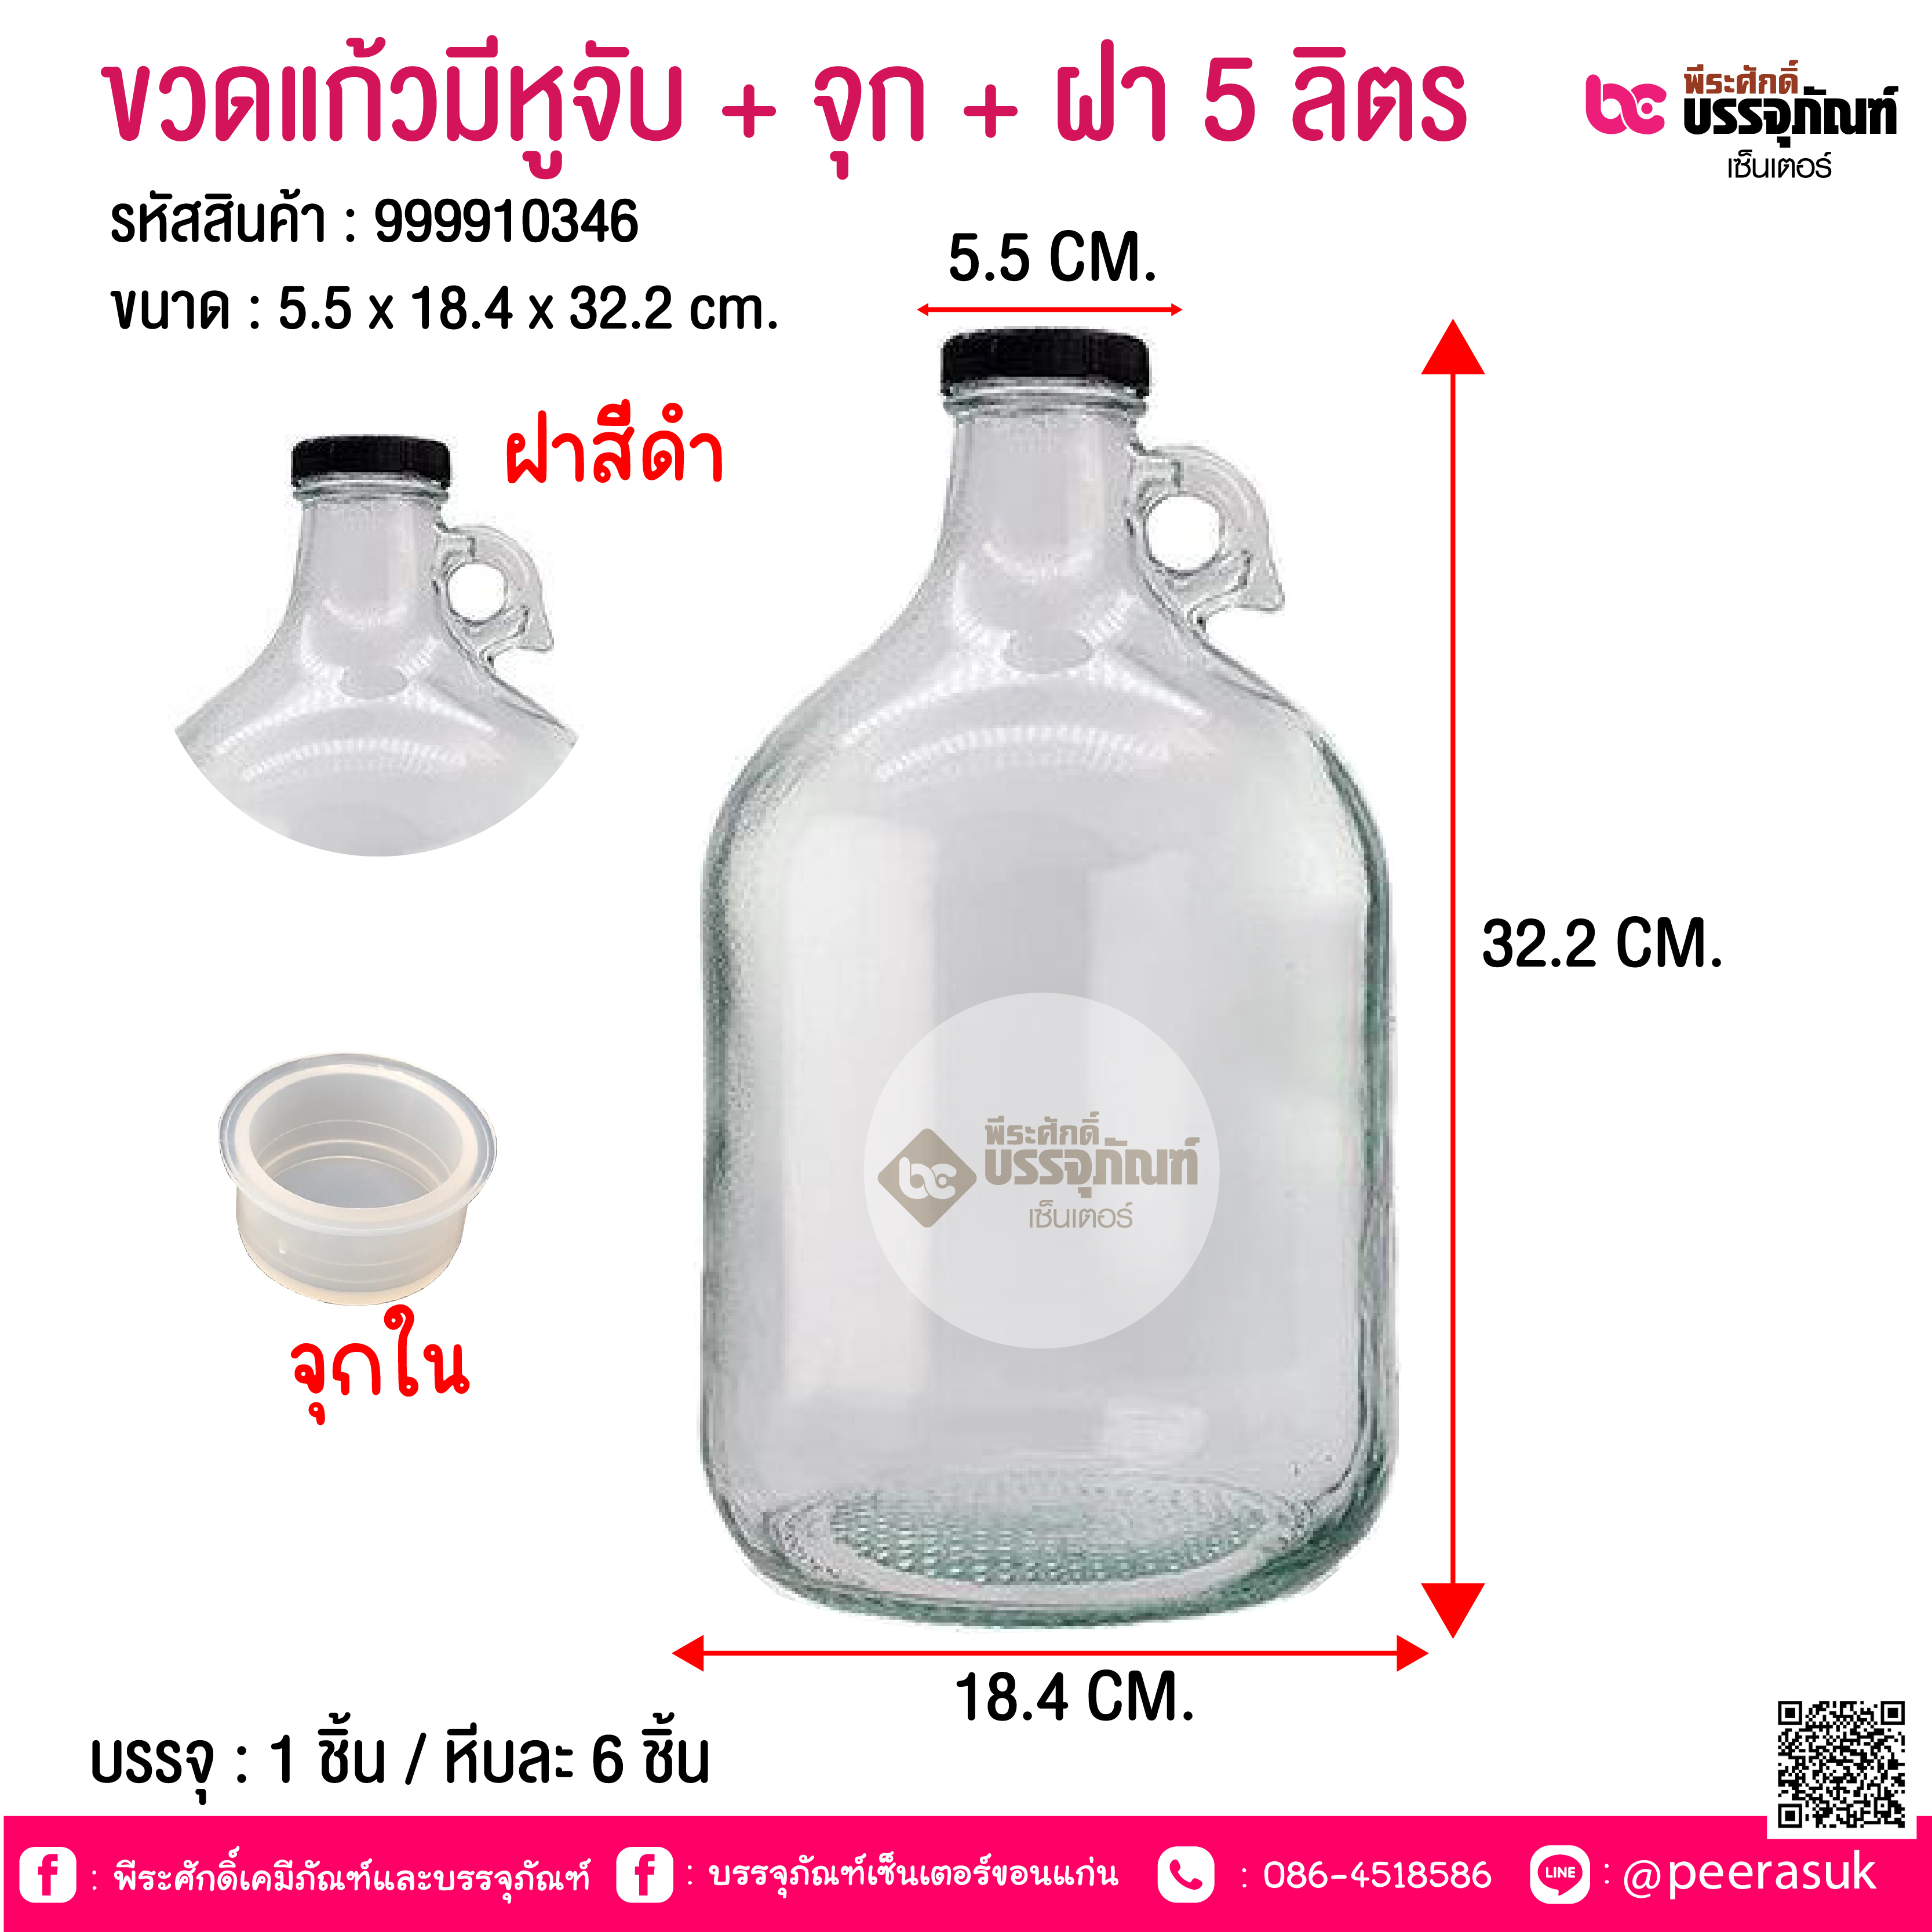glass_bottle: (686, 320, 1424, 1637)
